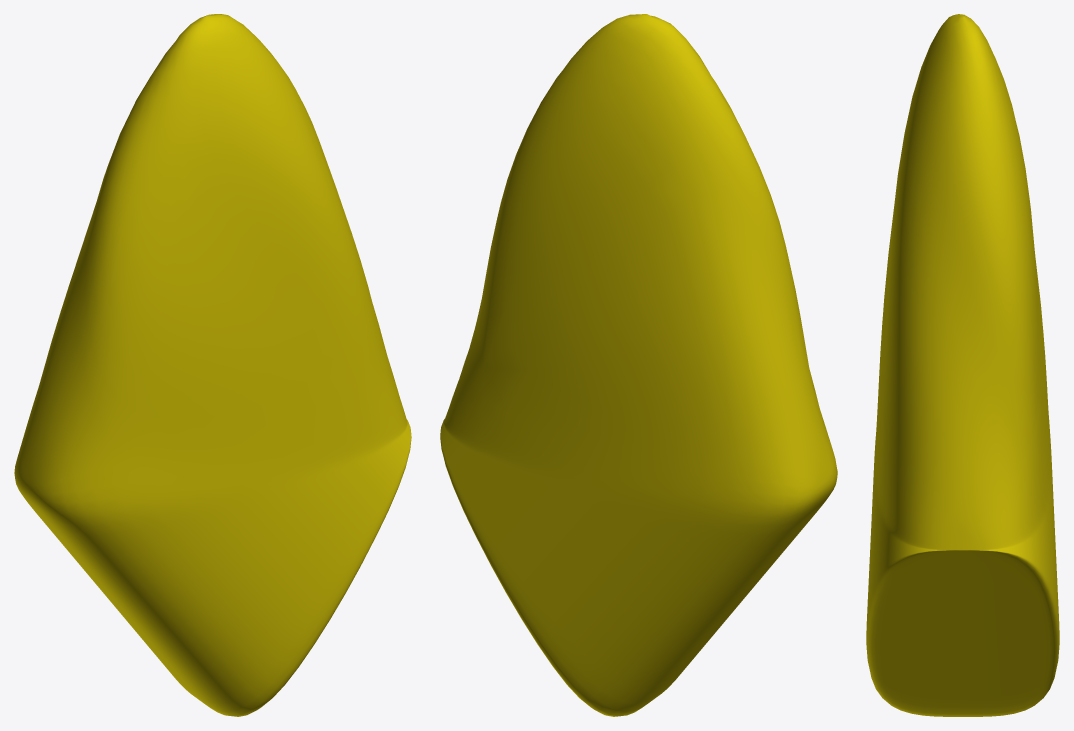
Rendered from morceau_cle.fbx.
The picture shows the model from 3 angles, left to right: view 1: azimuth 30°, elevation 25°; view 2: azimuth 150°, elevation 25°; view 3: azimuth 270°, elevation 25°; orthographic projection.
Parts seen in each view (by area): view 1: morceau_cle; view 2: morceau_cle; view 3: morceau_cle.
Boxes of the visible parts, box(x1,y1,x2,y2) form: morceau_cle: box(14, 14, 411, 716); morceau_cle: box(440, 14, 837, 716); morceau_cle: box(866, 14, 1059, 716).
Size of the model in its own units: 2.53 by 4.57 by 1.15.
